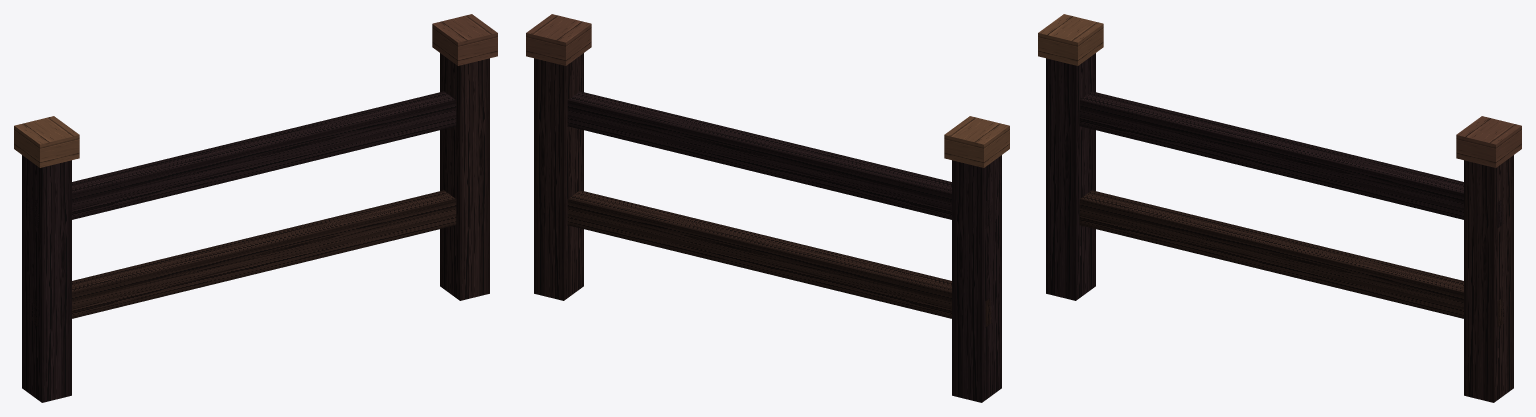
Rendered from fence.glb.
The picture shows the model from 3 angles, left to right: view 1: azimuth 30°, elevation 25°; view 2: azimuth 150°, elevation 25°; view 3: azimuth 330°, elevation 25°; orthographic projection.
Parts seen in each view (by area): view 1: fence; view 2: fence; view 3: fence.
Part boxes in pixels (box(x1,y1,x2,y2)): fence: box(14, 14, 497, 402); fence: box(526, 14, 1009, 402); fence: box(1038, 14, 1521, 402).
Size of the model in its own units: 1.84 by 1 by 0.18.
1 material, 1 textured.
